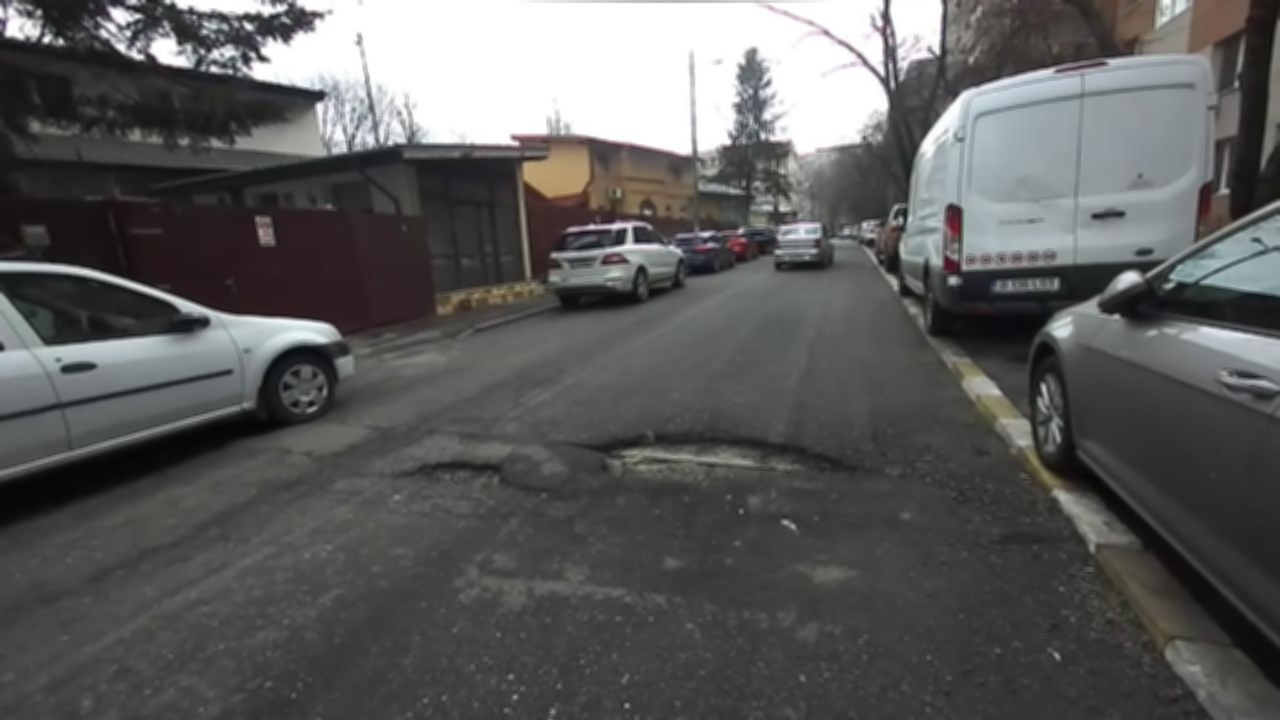pothole: (584, 423, 887, 498), (389, 455, 555, 504)
